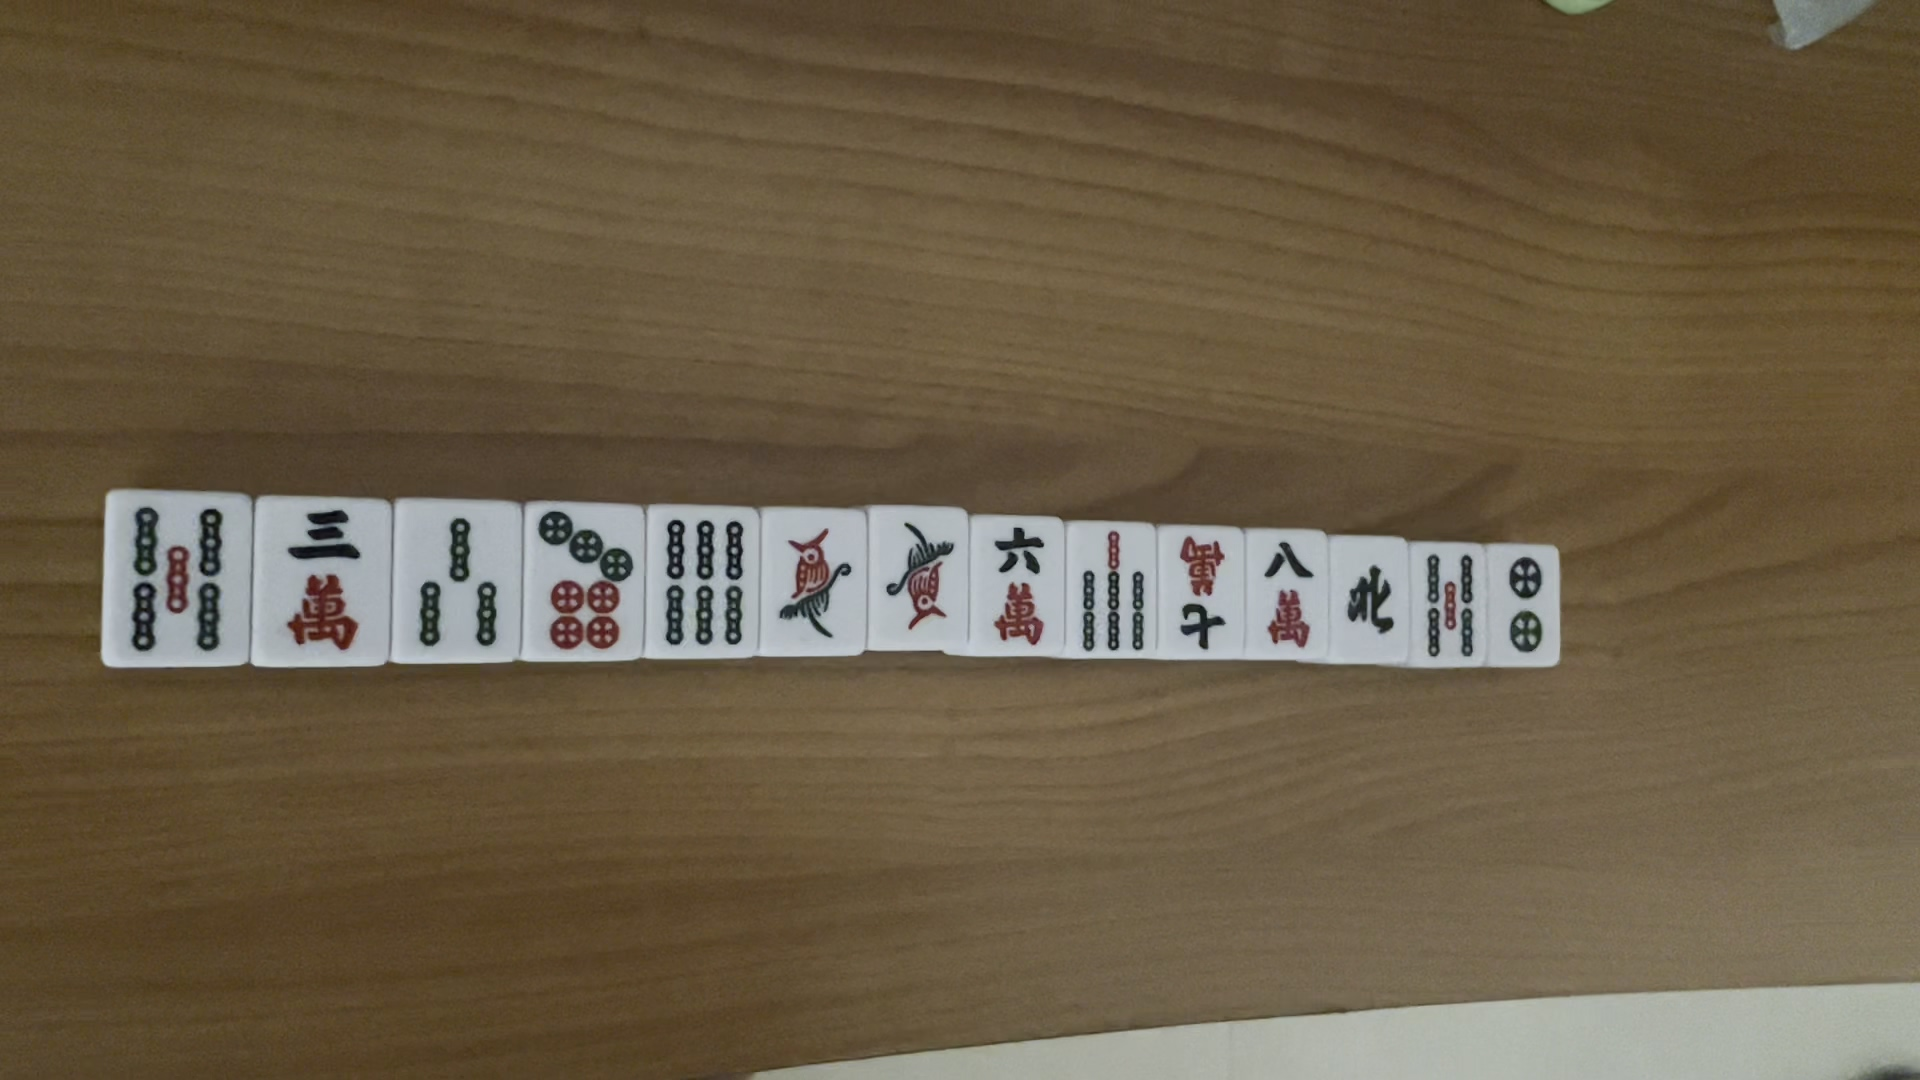b-1: (777, 522, 855, 651), (884, 517, 960, 632)
b-3: (409, 508, 512, 659)
b-5: (112, 493, 235, 657), (1412, 547, 1481, 662)
b-6: (657, 512, 745, 654)
b-7: (1076, 531, 1149, 657)
c-3: (264, 502, 376, 647)
c-6: (986, 521, 1054, 650)
c-7: (1170, 534, 1236, 657)
c-8: (1257, 541, 1320, 655)
d-2: (1497, 554, 1548, 655)
d-7: (531, 509, 633, 665)
honors-north: (1341, 562, 1399, 638)
